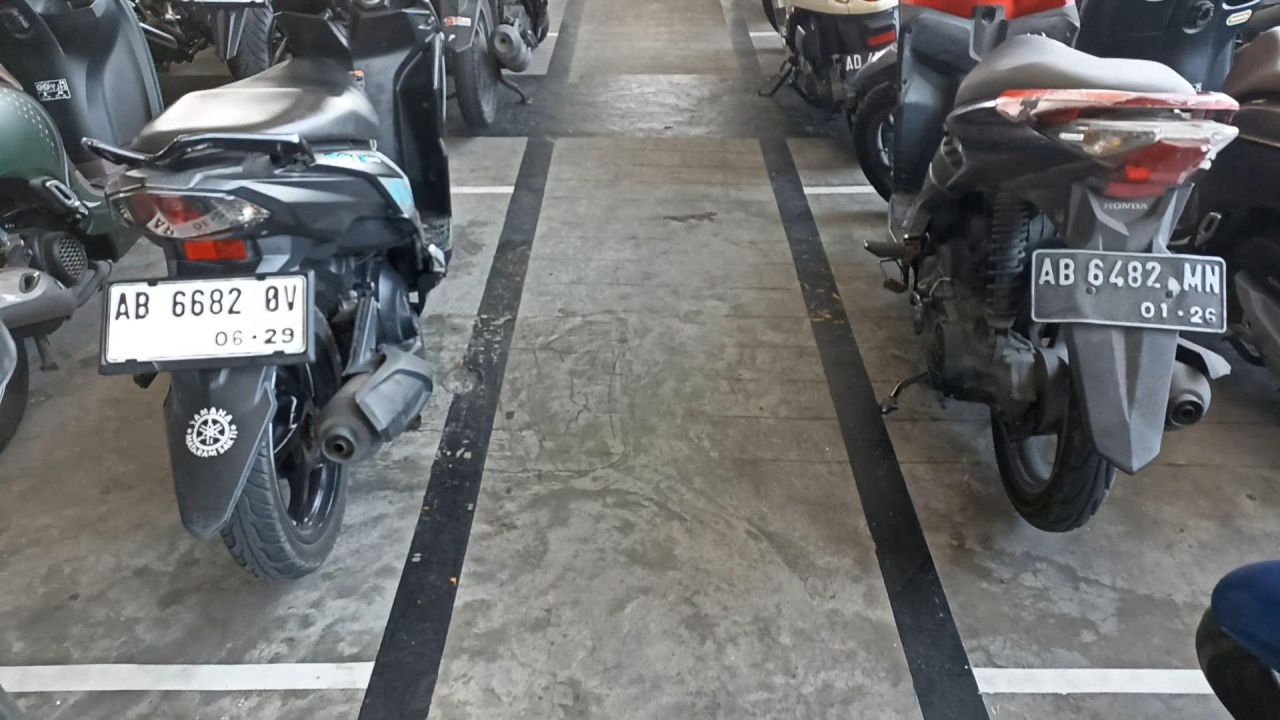plate: (101, 270, 309, 364), (1033, 249, 1228, 333)
